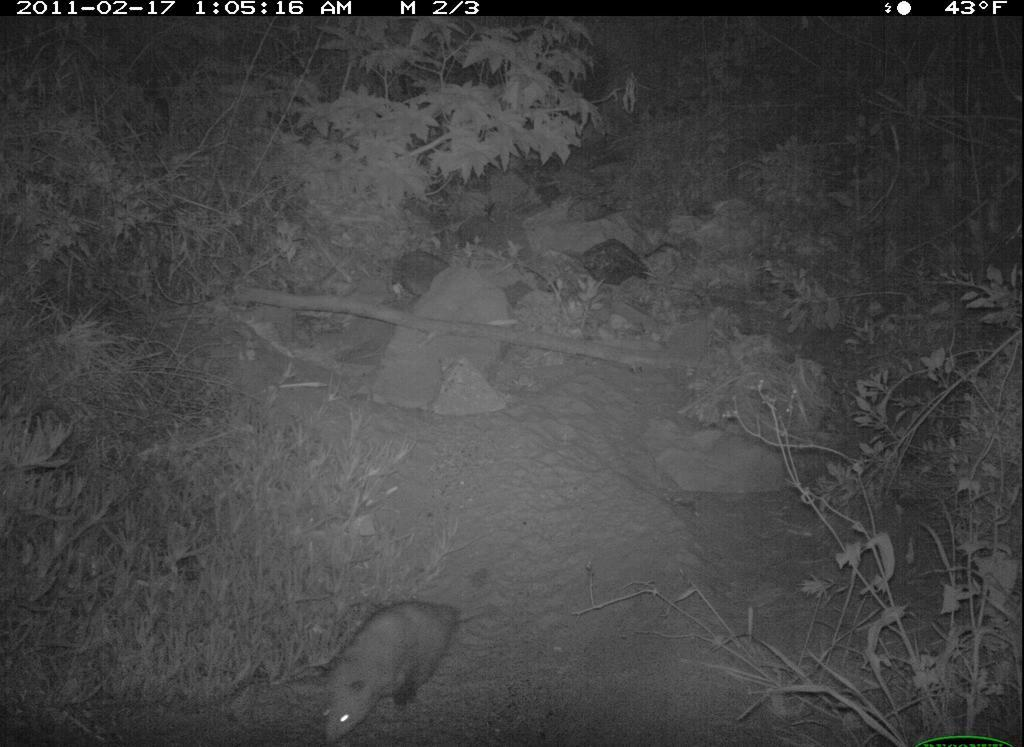opossum: (309, 584, 495, 747)
